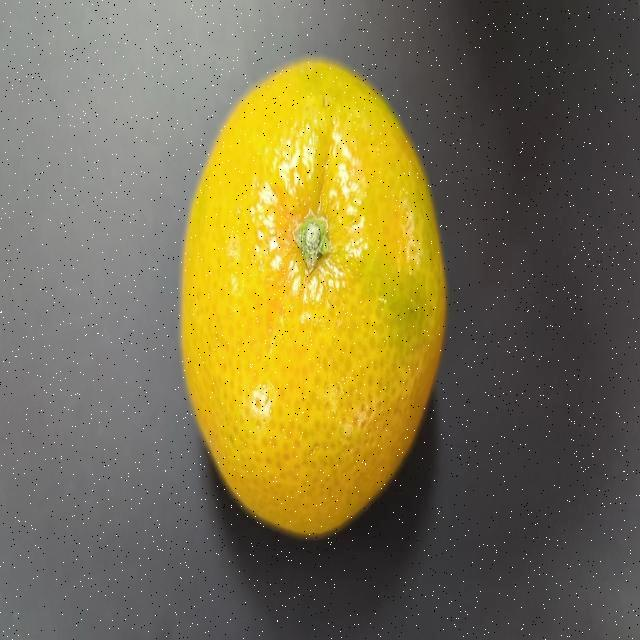Jeruk: (168, 42, 454, 546)
